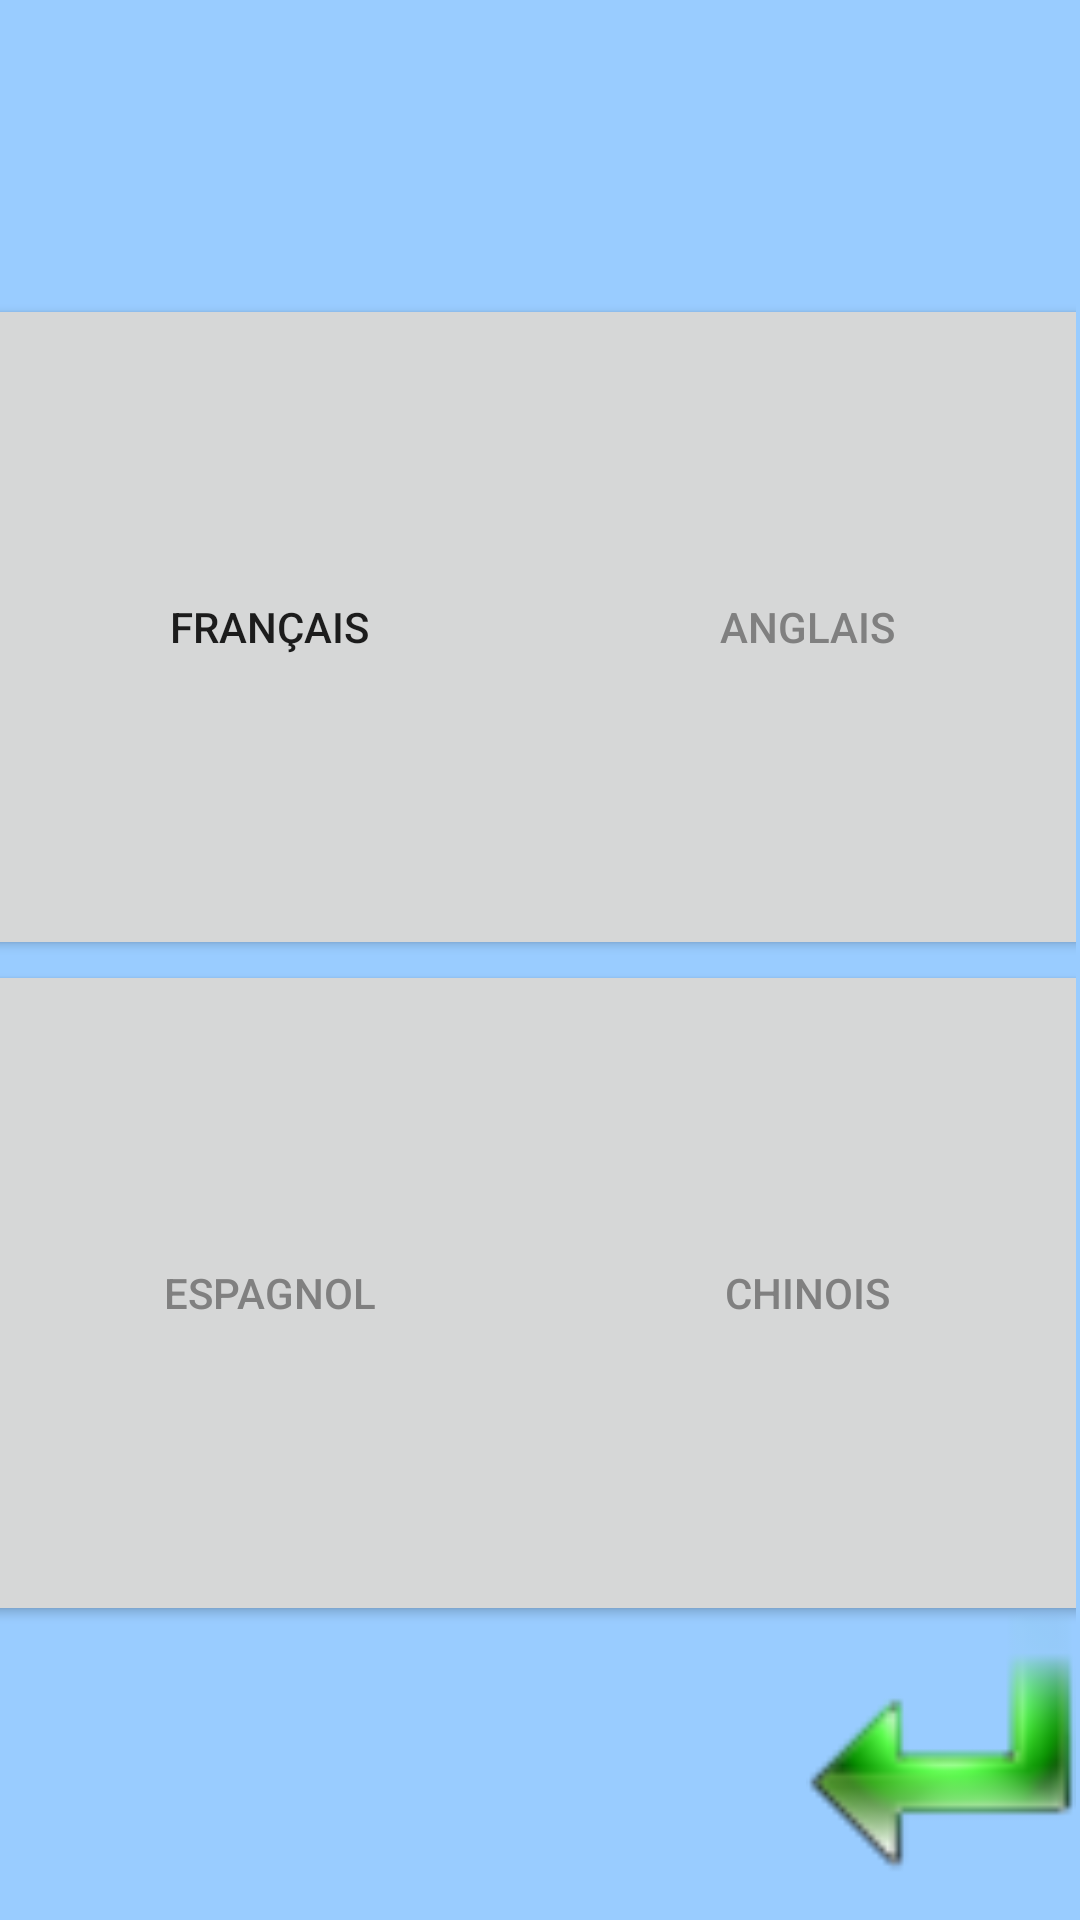

Where icons sit on this 1080x1920 app screen, as (x1, y1, x2, y2):
back arrow: (810, 1657, 1073, 1867)
